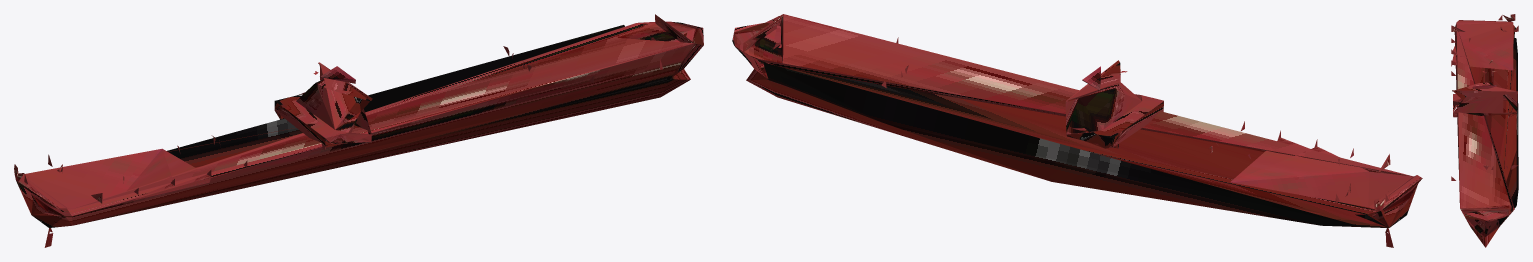
3 views of the same model, side by side, from view 1: azimuth 30°, elevation 25°; view 2: azimuth 150°, elevation 25°; view 3: azimuth 270°, elevation 25° (orthographic). The views are drawn at different scales.
Visible parts, largest first — view 1: Ship_Bridge_0; view 2: Ship_Bridge_0; view 3: Ship_Bridge_0.
Part boxes in pixels (x1,y1,x2,y2): Ship_Bridge_0: (14,14,703,247); Ship_Bridge_0: (732,14,1422,247); Ship_Bridge_0: (1451,14,1518,247).
Bounding box in the file's own units: 91.25 × 14.34 × 12.83.
Materials: 1 (1 with a texture image).
